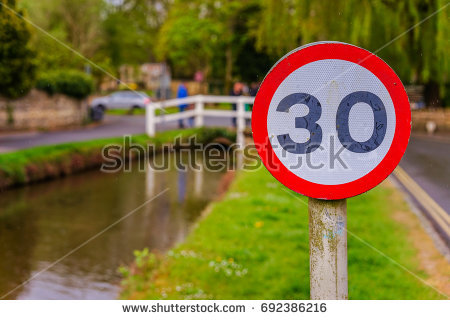Speed_limit_30km: (252, 41, 411, 201)
